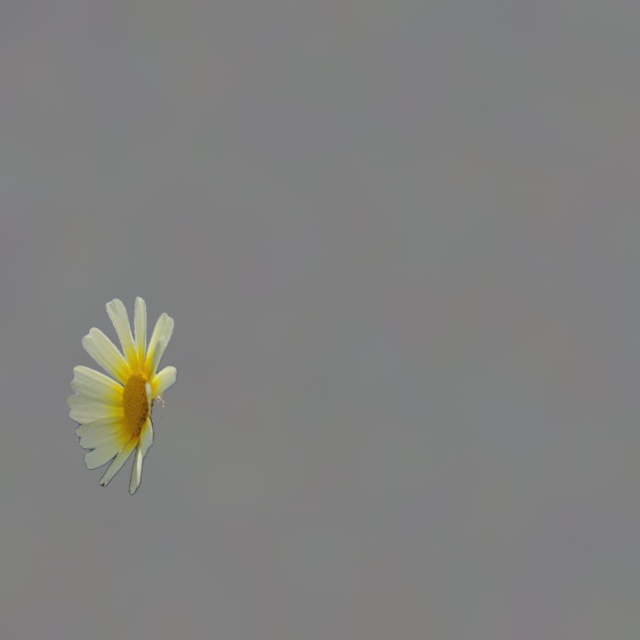daisy: (67, 297, 176, 494)
